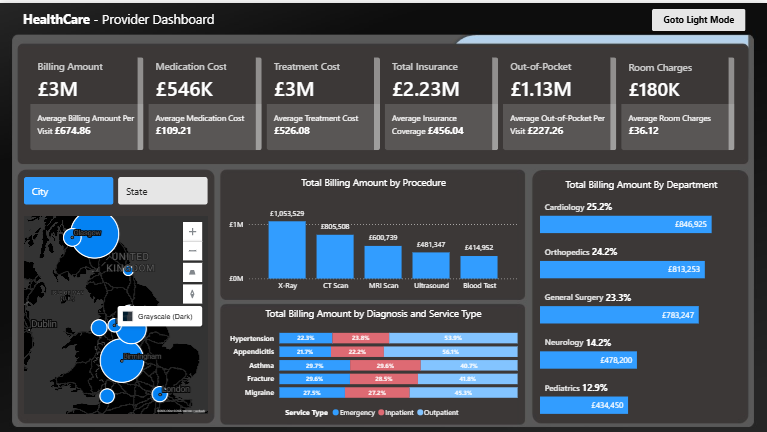

Layout of this report page (visuals, bound fields, positions):
{"tool":"powerbi","page":{"name":"Dashboard_1","canvas":[1280,720],"ordinal":0},"visuals":[{"type":"cardVisual","fields":{"Data":["_Measures.Total Billing Amount","_Measures.Total Medication Cost","_Measures.Total Treatment Cost","_Measures.Total Insurance Coverage","_Measures.Out-of-Pockt","_Measures.Total Room Charges"]},"box":[29.9,65.6,1221.6,205.3],"z":0},{"type":"actionButton","title":"Open","box":[439.4,7.1,124.8,35.9],"z":1000,"group":"g1"},{"type":"advancedSlicerVisual","fields":{"Values":["Patients Location Switch.Patients Location Switch"]},"box":[36.2,284.9,316.7,56.4],"z":1000},{"type":"azureMap","fields":{"Category":["cities.City"],"Size":["_Measures.Total Billing Amount"]},"box":[36.2,350,316.7,339.9],"z":2000},{"type":"clusteredColumnChart","fields":{"Category":["procedures.Procedure"],"Y":["_Measures.Total Billing Amount"]},"box":[377,282,491.8,210],"z":3000},{"type":"hundredPercentStackedBarChart","fields":{"Y":["_Measures.Total Billing Amount"],"Category":["diagnoses.Diagnosis"],"Series":["visits.Service Type"]},"box":[380,503.3,484.4,197.8],"z":4000},{"type":"clusteredBarChart","title":"Total Billing Amount By Department","fields":{"Y":["_Measures.Blank Measure","_Measures.Total Billing Amount"],"Category":["departments.Department"]},"box":[897.2,290.6,347.2,405],"z":5000},{"type":"actionButton","box":[1088.5,5.7,155.9,35.4],"z":6000},{"type":"textbox","box":[36.9,4.3,350.1,41.1],"z":7000},{"type":"group","id":"g1","title":"Slicer Button","box":[439.4,7.1,124.7,35.4],"z":9000}]}

Visuals, with their boxes in screenshot pixels (x1, y1, x2, y2), scaled from the page's 1280x720 canvas onto the 767x432 screenshot:
cardVisual - _Measures.Total Billing Amount x _Measures.Total Medication Cost: BBox(18, 39, 750, 163)
"Open" actionButton: BBox(263, 4, 338, 26)
advancedSlicerVisual - Patients Location Switch.Patients Location Switch: BBox(22, 171, 211, 205)
azureMap - cities.City x _Measures.Total Billing Amount: BBox(22, 210, 211, 414)
clusteredColumnChart - procedures.Procedure x _Measures.Total Billing Amount: BBox(226, 169, 521, 295)
hundredPercentStackedBarChart - _Measures.Total Billing Amount x diagnoses.Diagnosis: BBox(228, 302, 518, 421)
"Total Billing Amount By Department" clusteredBarChart: BBox(538, 174, 746, 417)
actionButton: BBox(652, 3, 746, 25)
textbox: BBox(22, 3, 232, 27)
"Slicer Button" group: BBox(263, 4, 338, 26)
